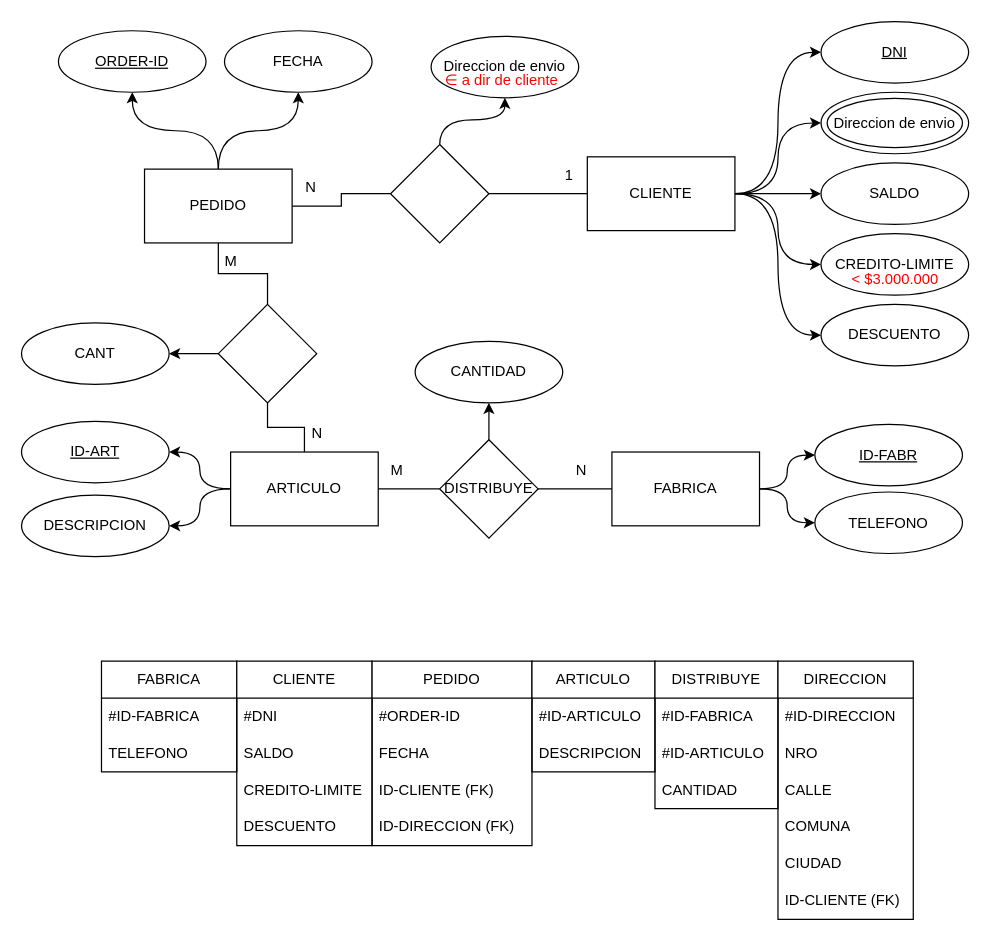
The diagram is 990 pixels wide and 941 high, and some of its shapes have lost their labels. Here are the shapes that lost their labels. From the top down, the centre of each, then its label:
point (439, 193): EFECTUO
point (267, 353): CONTIENE
